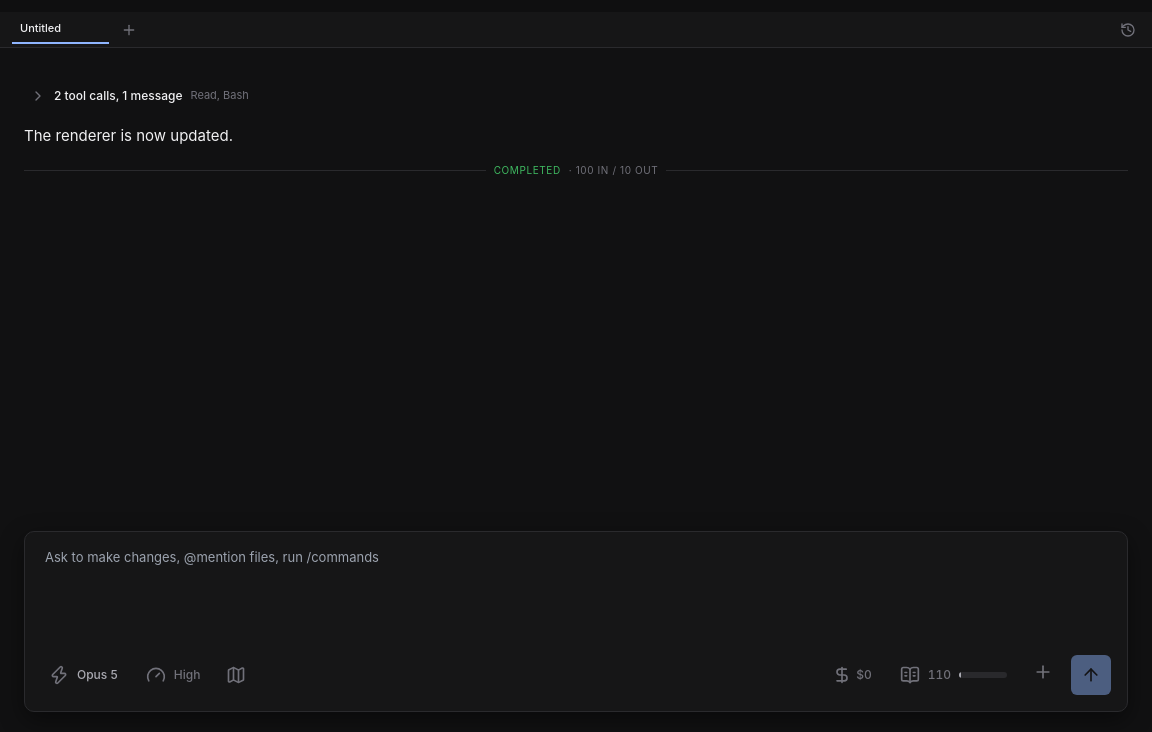
Test: ChatPanel reconstruction › collapses earlier model messages and activity while keeping the latest response visible
expect the text "I will inspect the renderer." is not shown: met
expect the text "npm test" is not shown: met
Click the button "2 tool calls, 1 message Read, Bash" at (118,96), box left=24, top=80, right=1128, bottom=112
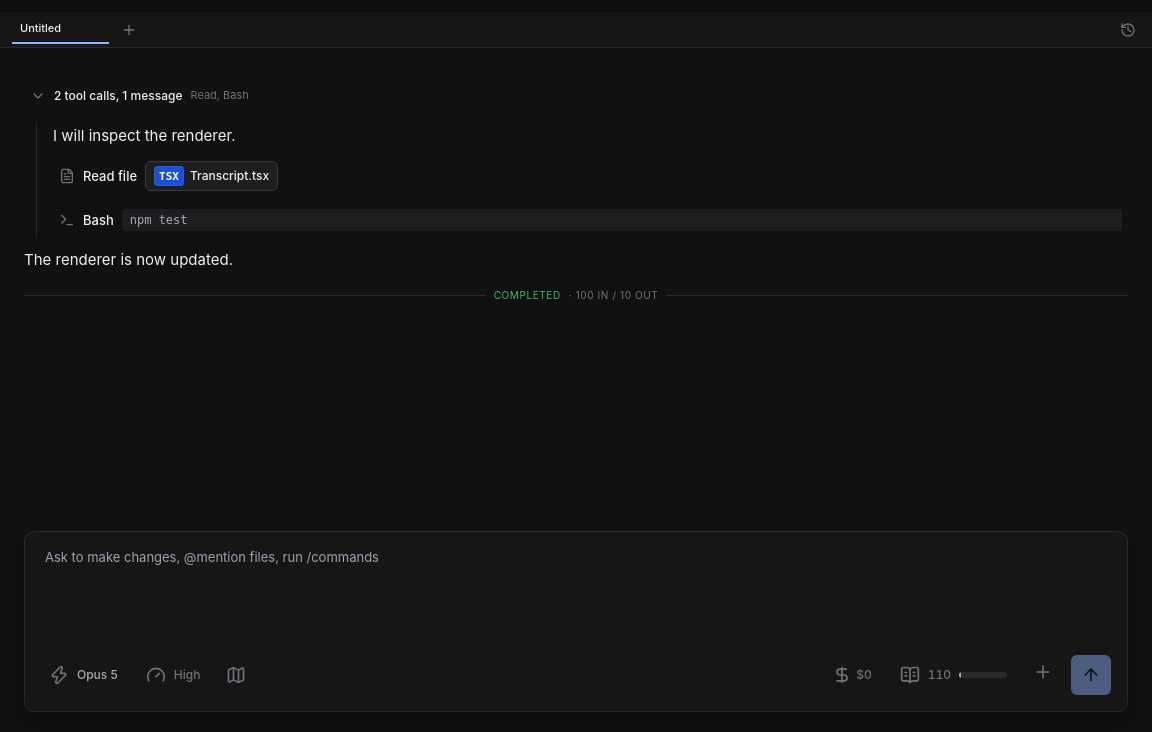
expect the text "I will inspect the renderer." is shown: met, box left=53, top=126, right=236, bottom=145
expect the number of elements with test id "tool-card" is 2: met, box left=59, top=161, right=278, bottom=191; left=53, top=204, right=1128, bottom=236
expect the text "npm test" is shown: met, box left=122, top=209, right=1122, bottom=231
